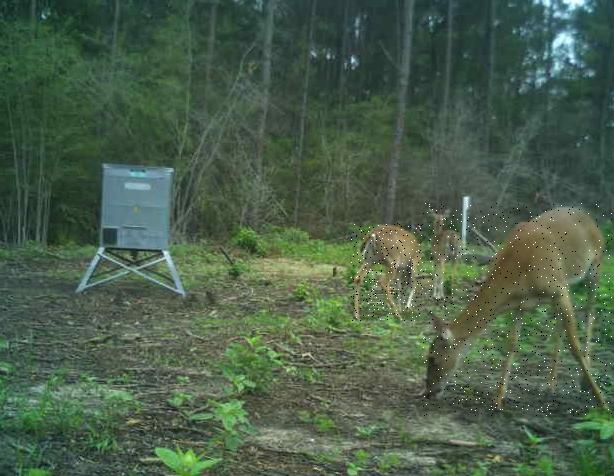Deer: (422, 204, 612, 417), (351, 223, 422, 321), (426, 206, 463, 308)
